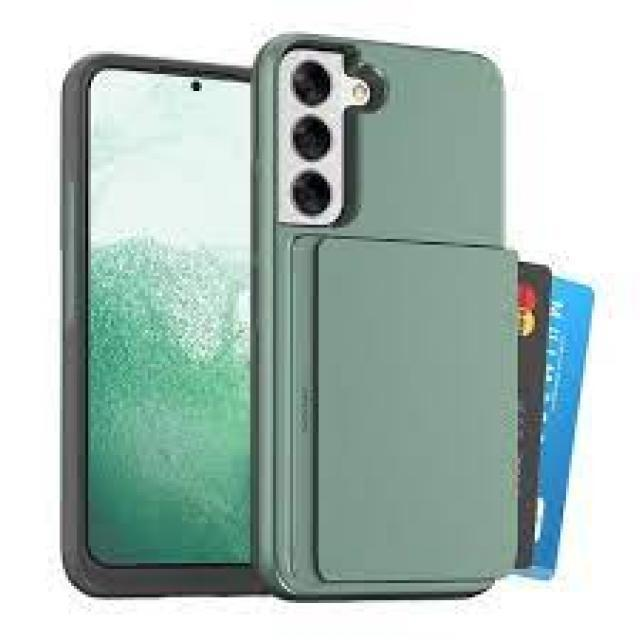phone: (250, 24, 513, 608), (49, 46, 258, 605)
